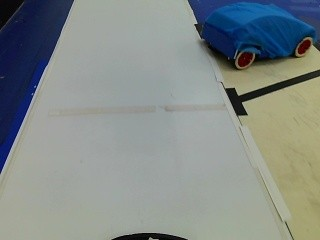car: (200, 0, 319, 65)
